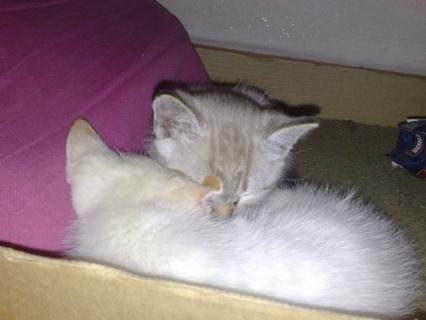Cat: (64, 80, 426, 319)
